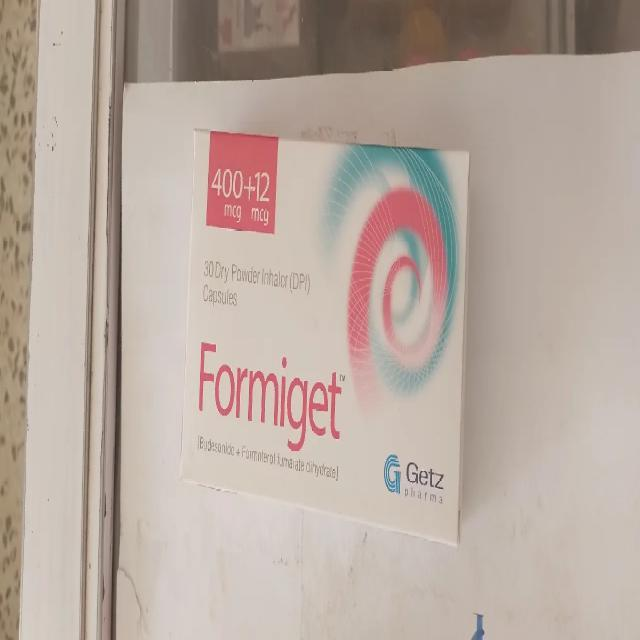drug-name: (193, 341, 345, 461)
